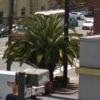Palm tree: (22, 6, 73, 74)
